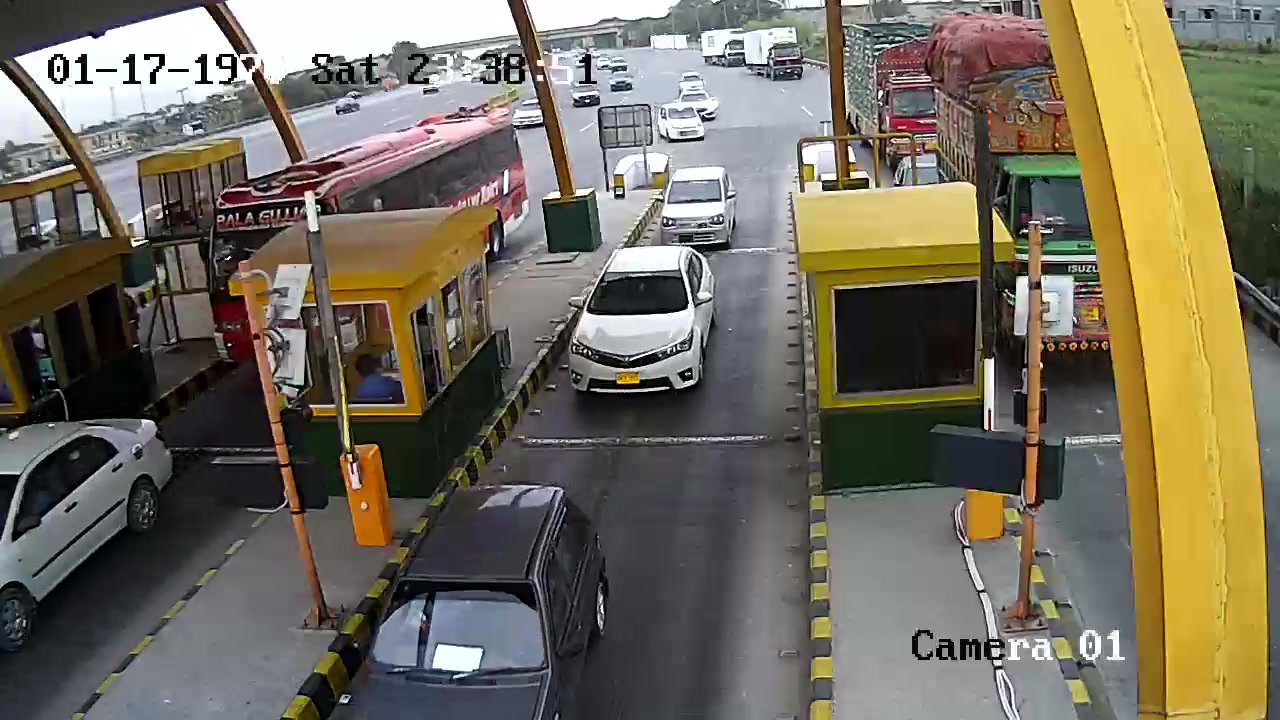F1: (554, 236, 754, 411)
